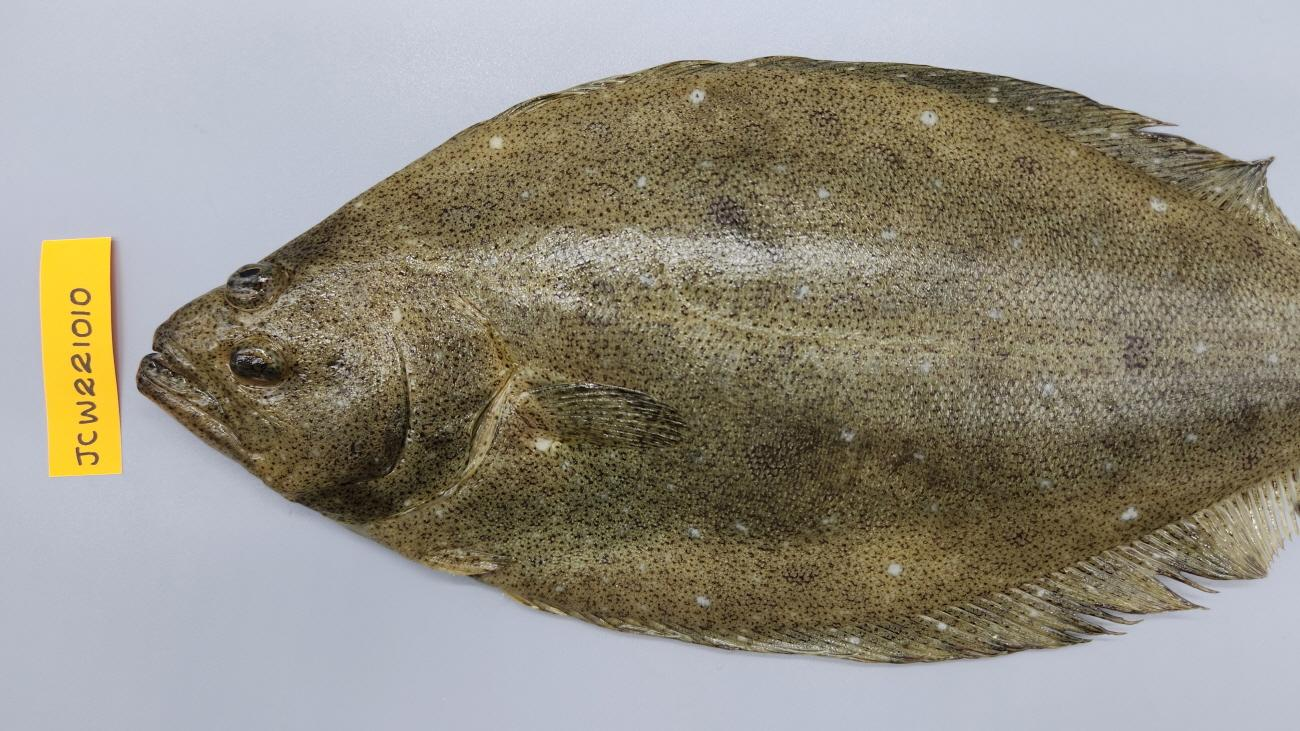POOUN: (135, 54, 1300, 665)
